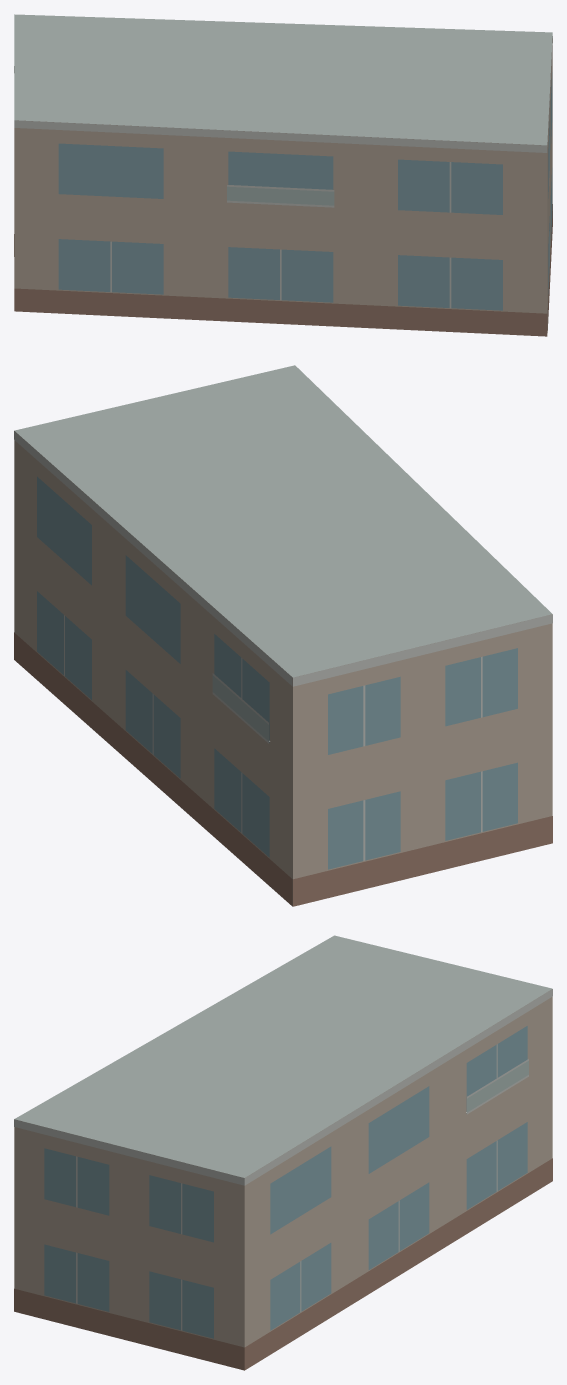
File: survey-upis-32650056.glb
3 renders of one model, top to bottom at view 1: azimuth 30°, elevation 25°; view 2: azimuth 150°, elevation 25°; view 3: azimuth 270°, elevation 25°, orthographic. The views are drawn at different scales.
Visible parts, largest first — view 1: survey-upis-32650056.tmp; view 2: survey-upis-32650056.tmp; view 3: survey-upis-32650056.tmp.
Boxes of the visible parts, x1,y1,x2,y2 form: survey-upis-32650056.tmp: (14, 14, 552, 336); survey-upis-32650056.tmp: (14, 365, 552, 906); survey-upis-32650056.tmp: (14, 935, 552, 1370).
Size of the model in its own units: 16.51 by 6.1 by 15.49.
